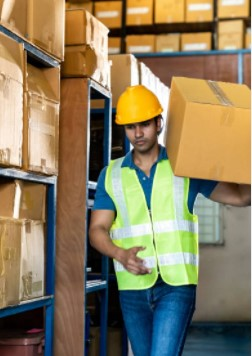stock: (168, 75, 252, 184)
worker: (108, 85, 197, 289)
